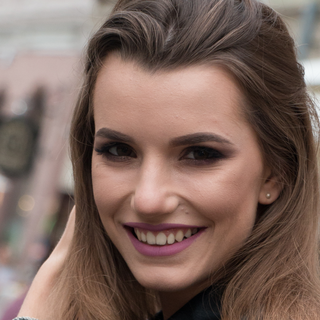eye: (173, 142, 229, 167), (94, 139, 140, 164)
